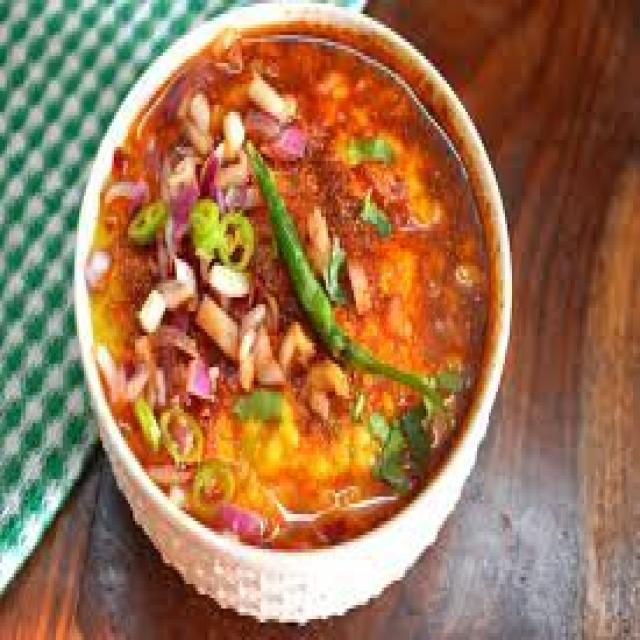dal: (134, 87, 463, 525)
